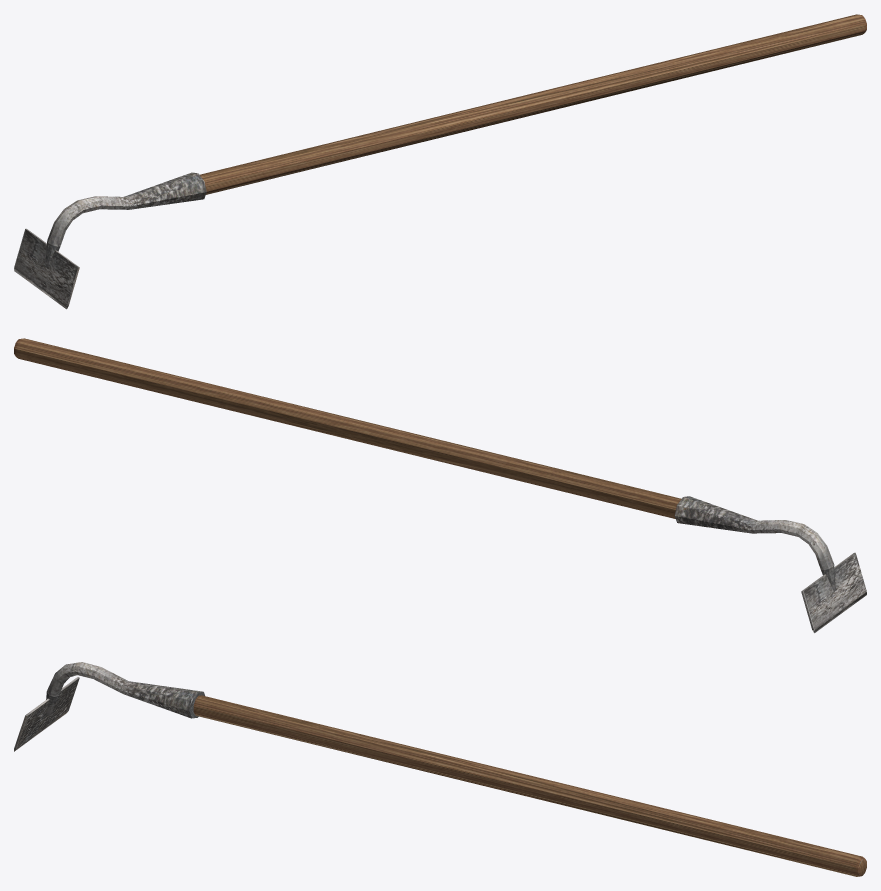
The model's file is Hoe.fbx.
3 renders of one model, top to bottom at view 1: azimuth 30°, elevation 25°; view 2: azimuth 150°, elevation 25°; view 3: azimuth 330°, elevation 25°, orthographic.
Visible parts, largest first — view 1: Hoe; view 2: Hoe; view 3: Hoe.
Boxes of the visible parts, x1,y1,x2,y2 form: Hoe: [14, 14, 866, 309]; Hoe: [14, 338, 866, 633]; Hoe: [14, 662, 866, 876].
Size of the model in its own units: 9 by 0.837 by 1.
Materials: 1 (1 with a texture image).
